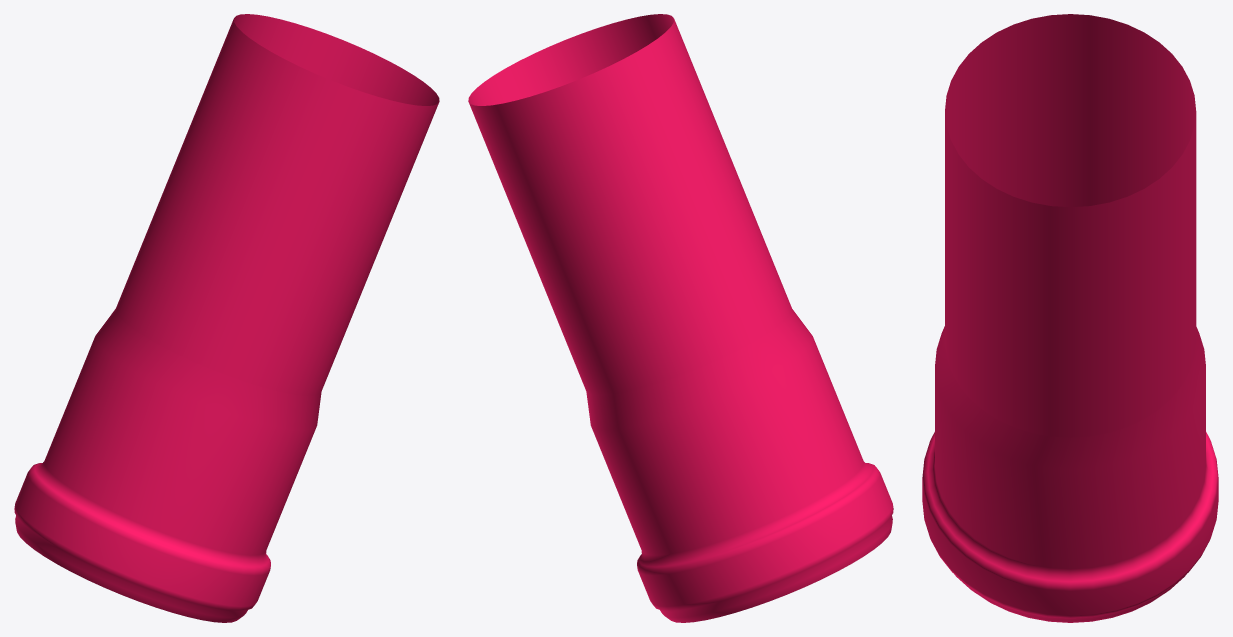
Rendered from Pommel_Vader.obj.
3 renders of one model, left to right at view 1: azimuth 30°, elevation 25°; view 2: azimuth 150°, elevation 25°; view 3: azimuth 270°, elevation 25°, orthographic. The views are drawn at different scales.
Visible parts, largest first — view 1: Pommel_Vader Vader_GRP; view 2: Pommel_Vader Vader_GRP; view 3: Pommel_Vader Vader_GRP.
Part boxes in pixels (x1,y1,x2,y2): Pommel_Vader Vader_GRP: (14, 14, 439, 622); Pommel_Vader Vader_GRP: (468, 14, 893, 622); Pommel_Vader Vader_GRP: (922, 14, 1218, 622).
Size of the model in its own units: 4.46 by 6.03 by 2.59.
